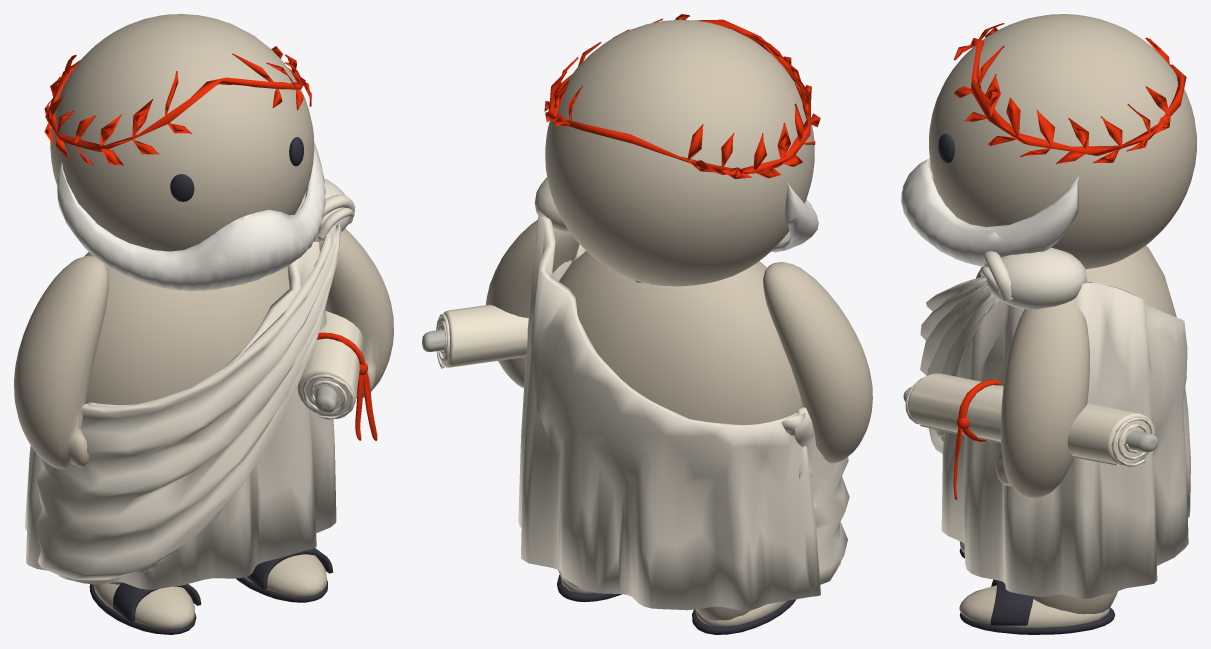
The model's file is philosopher.glb.
3 views of the same model, side by side, from view 1: azimuth 30°, elevation 25°; view 2: azimuth 150°, elevation 25°; view 3: azimuth 270°, elevation 25° (orthographic). The views are drawn at different scales.
Parts seen in each view (by area): view 1: bodyG_body_toga, head_body_stone, bodyG_body_stone, armL_body_stone, head_body_beard, armR_body_stone, head_body_laurel_and_ribbon, bodyG_scroll_scroll, legL_body_stone, legR_body_stone, legL_body_sandals, legR_body_sandals (+3 smaller); view 2: bodyG_body_toga, head_body_stone, bodyG_body_stone, armL_body_stone, head_body_laurel_and_ribbon, bodyG_scroll_scroll, armR_body_stone, head_body_beard, legL_body_stone, legL_body_sandals; view 3: bodyG_body_toga, head_body_stone, armR_body_stone, head_body_beard, bodyG_scroll_scroll, head_body_laurel_and_ribbon, legR_body_stone, bodyG_body_stone, legR_body_sandals, bodyG_scroll_laurel_and_ribbon, bodyG_scroll_toga, bodyG_scroll_scroll_spindle.
Part boxes in pixels (<box>): bodyG_body_toga: <box>25,178,355,589</box>; head_body_stone: <box>50,14,314,251</box>; bodyG_body_stone: <box>84,252,289,405</box>; armL_body_stone: <box>14,256,108,469</box>; head_body_beard: <box>57,141,325,291</box>; armR_body_stone: <box>319,228,393,398</box>; head_body_laurel_and_ribbon: <box>44,46,311,165</box>; bodyG_scroll_scroll: <box>297,311,362,416</box>; legL_body_stone: <box>93,582,194,629</box>; legR_body_stone: <box>245,554,326,596</box>; legL_body_sandals: <box>89,582,201,634</box>; legR_body_sandals: <box>236,548,333,602</box>; bodyG_body_toga: <box>518,177,849,610</box>; head_body_stone: <box>545,19,814,286</box>; bodyG_body_stone: <box>559,251,802,424</box>; armL_body_stone: <box>763,262,872,463</box>; head_body_laurel_and_ribbon: <box>544,14,820,178</box>; bodyG_scroll_scroll: <box>440,304,528,367</box>; armR_body_stone: <box>486,219,579,387</box>; head_body_beard: <box>771,183,818,252</box>; legL_body_stone: <box>695,600,787,626</box>; legL_body_sandals: <box>692,599,796,634</box>; bodyG_body_toga: <box>920,247,1190,598</box>; head_body_stone: <box>929,14,1196,268</box>; armR_body_stone: <box>995,300,1089,498</box>; head_body_beard: <box>901,158,1078,266</box>; bodyG_scroll_scroll: <box>908,373,1155,465</box>; head_body_laurel_and_ribbon: <box>953,23,1186,164</box>; legR_body_stone: <box>959,585,1117,627</box>; bodyG_body_stone: <box>976,245,1176,317</box>; legR_body_sandals: <box>960,579,1114,634</box>; bodyG_scroll_laurel_and_ribbon: <box>953,379,1000,499</box>; bodyG_scroll_toga: <box>905,378,1154,466</box>; bodyG_scroll_scroll_spindle: <box>903,387,1158,452</box>.
Size of the model in its own units: 0.8667 by 1.22 by 0.5811.
